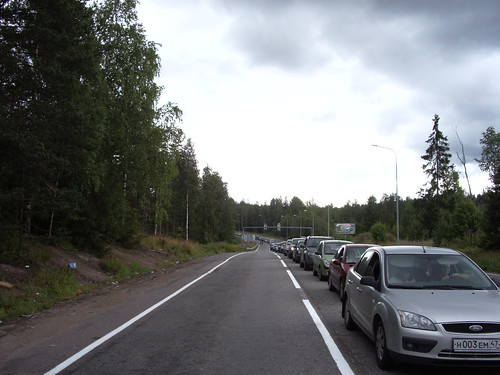car: (346, 246, 500, 364)
sky: (159, 1, 500, 198)
street: (15, 238, 338, 375)
vegetation: (1, 1, 243, 249), (279, 189, 500, 240)
